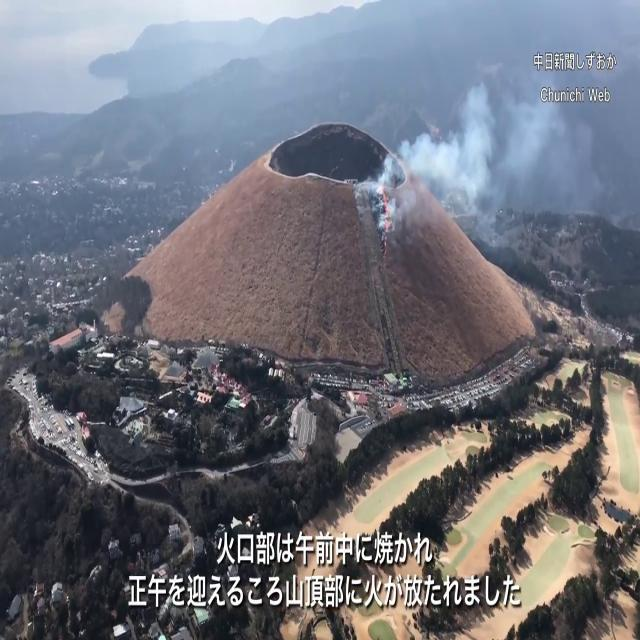Smoke: (356, 64, 594, 228)
